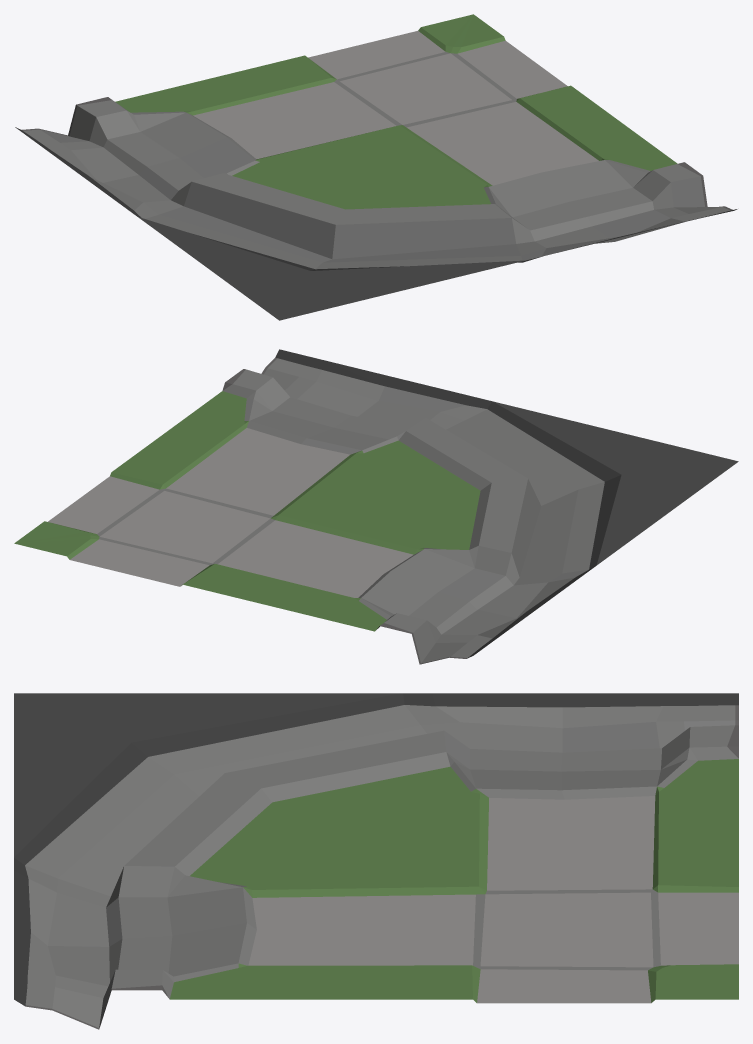
The model's file is SM_Env_Sidewalk_Corner_03.fbx.
3 views of the same model, one above another, from view 1: azimuth 30°, elevation 25°; view 2: azimuth 150°, elevation 25°; view 3: azimuth 270°, elevation 25° (orthographic). The views are drawn at different scales.
Parts seen in each view (by area): view 1: SM_Env_Sidewalk_Corner_03; view 2: SM_Env_Sidewalk_Corner_03; view 3: SM_Env_Sidewalk_Corner_03.
Part boxes in pixels (x1,y1,x2,y2): SM_Env_Sidewalk_Corner_03: [15, 14, 737, 320]; SM_Env_Sidewalk_Corner_03: [14, 349, 738, 664]; SM_Env_Sidewalk_Corner_03: [14, 693, 738, 1029].
Bounding box in the file's own units: 500 × 30 × 500.
